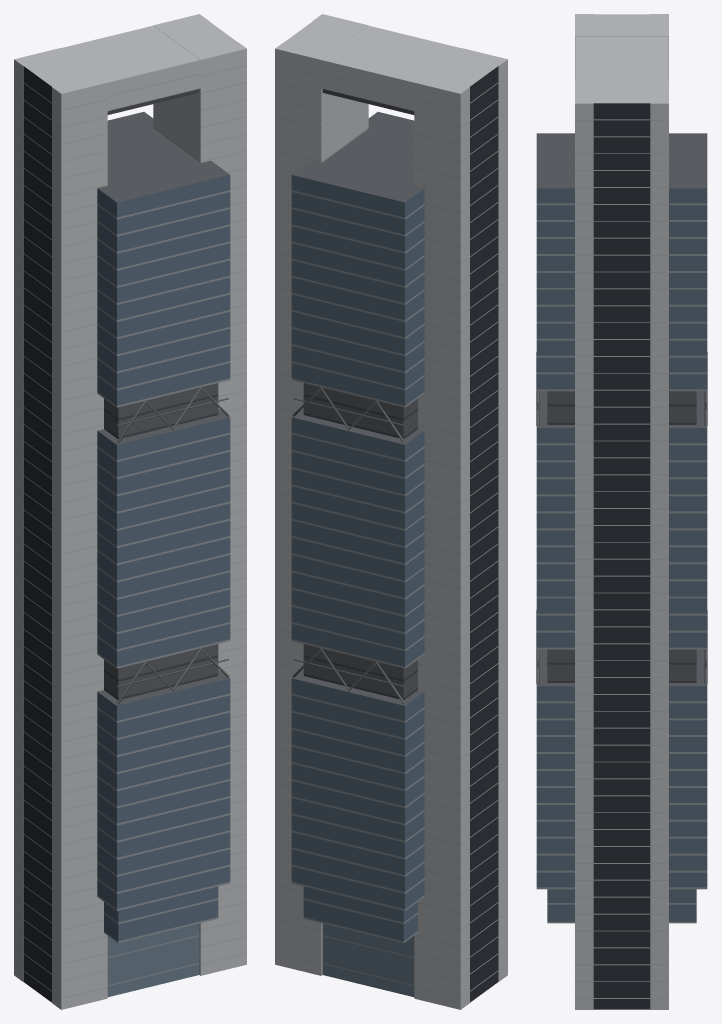
The picture shows the model from 3 angles, left to right: view 1: azimuth 30°, elevation 25°; view 2: azimuth 150°, elevation 25°; view 3: azimuth 270°, elevation 25°; orthographic projection.
Parts seen in each view (by area): view 1: cores_steel, offices_glass; view 2: cores_steel, offices_glass; view 3: cores_steel, offices_glass.
Boxes of the visible parts, bbox=[...] form: cores_steel: bbox=[14, 14, 246, 1009]; offices_glass: bbox=[97, 112, 230, 997]; cores_steel: bbox=[275, 14, 507, 1009]; offices_glass: bbox=[291, 112, 424, 997]; cores_steel: bbox=[536, 14, 707, 1009]; offices_glass: bbox=[536, 133, 707, 923].
Bounding box in the file's own units: 53.3 × 251 × 43.
